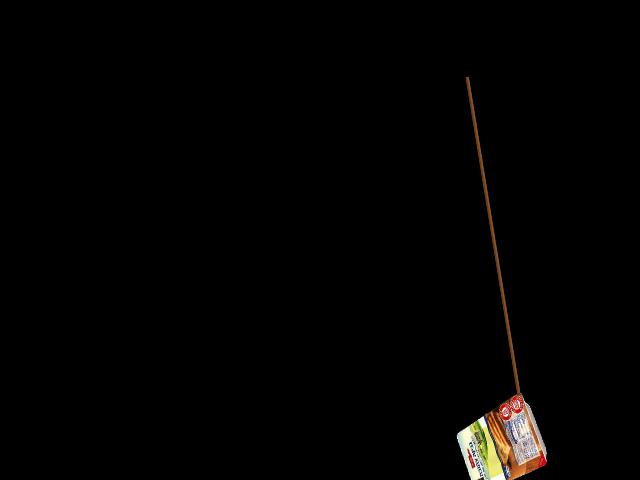cheese: (454, 404, 548, 480)
